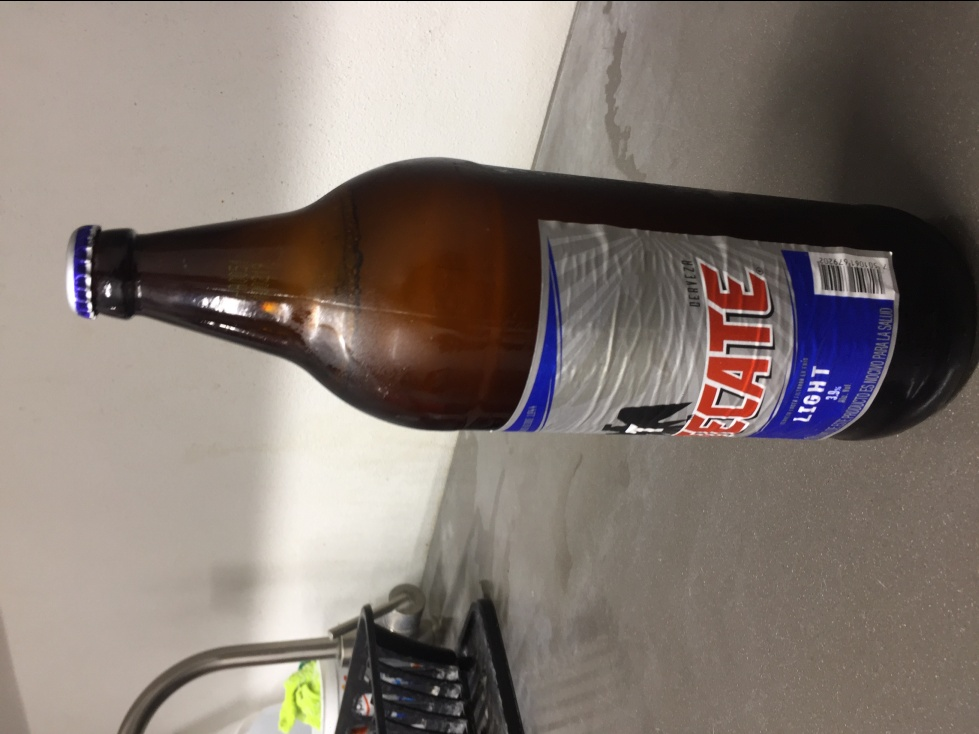tecateC: (63, 153, 974, 444)
